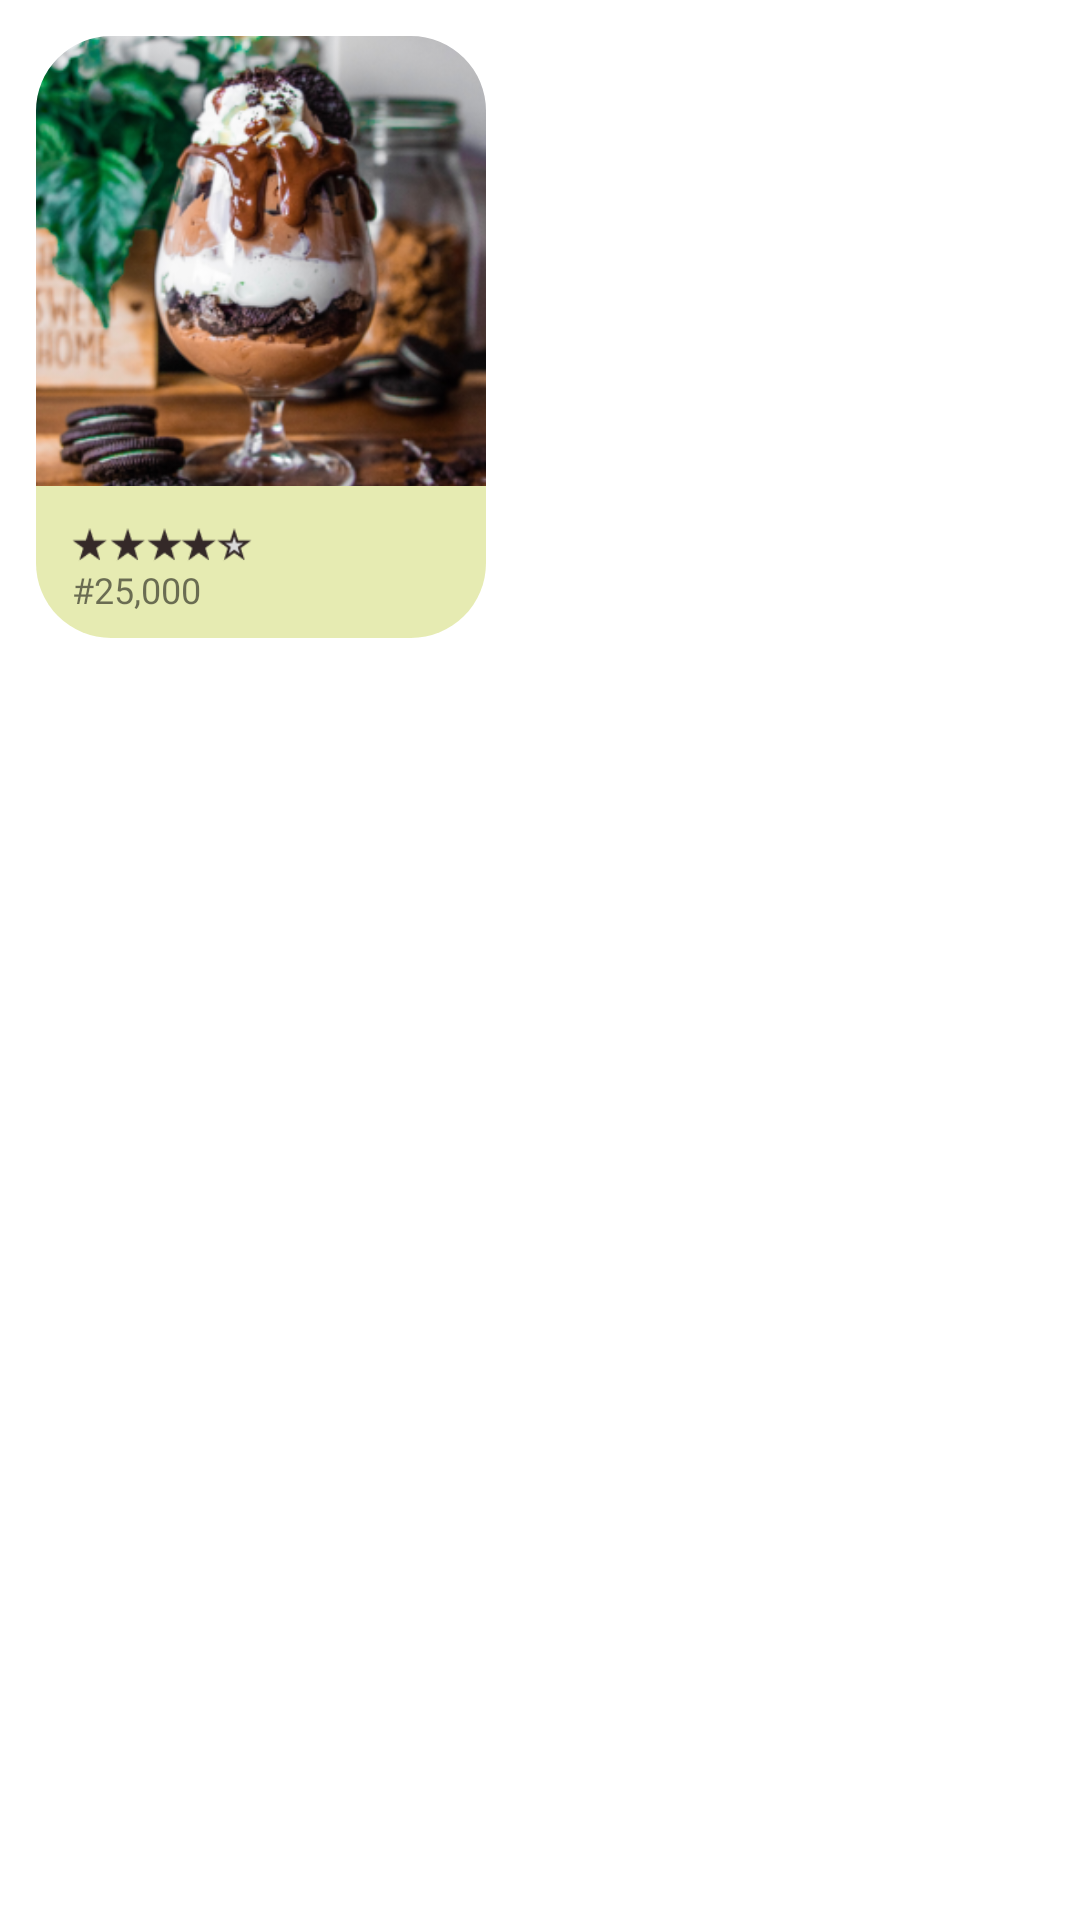

Named icons in this screenshot (1080px×1920px) and their bounding boxes, {"x1": x1, "y1": y1, "x2": x2, "y2": y2}:
group rating: {"x1": 73, "y1": 528, "x2": 251, "y2": 560}
